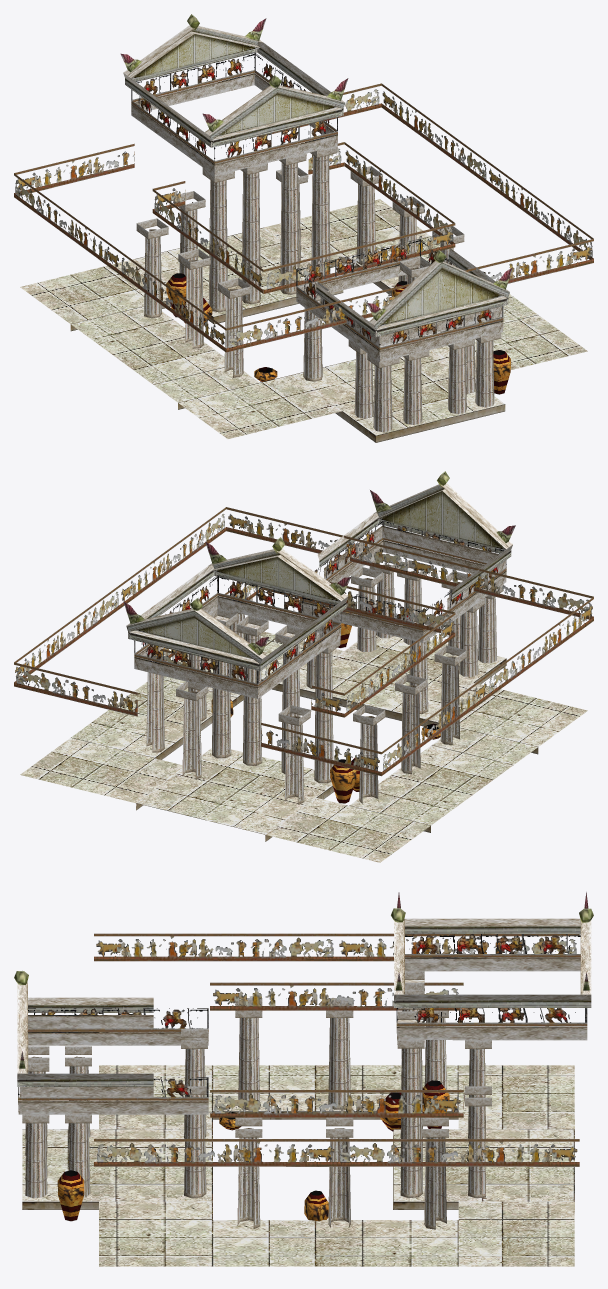
The model's file is hele_gym_b.dae.
3 views of the same model, one above another, from view 1: azimuth 30°, elevation 25°; view 2: azimuth 150°, elevation 25°; view 3: azimuth 270°, elevation 25° (orthographic). The views are drawn at different scales.
Visible parts, largest first — view 1: gym_prop; view 2: gym_prop; view 3: gym_prop.
Boxes of the visible parts, <box> form: gym_prop: <box>14,14,593,442</box>; gym_prop: <box>14,471,593,862</box>; gym_prop: <box>14,892,593,1266</box>.
Bounding box in the file's own units: 20.11 × 24.01 × 12.1.
